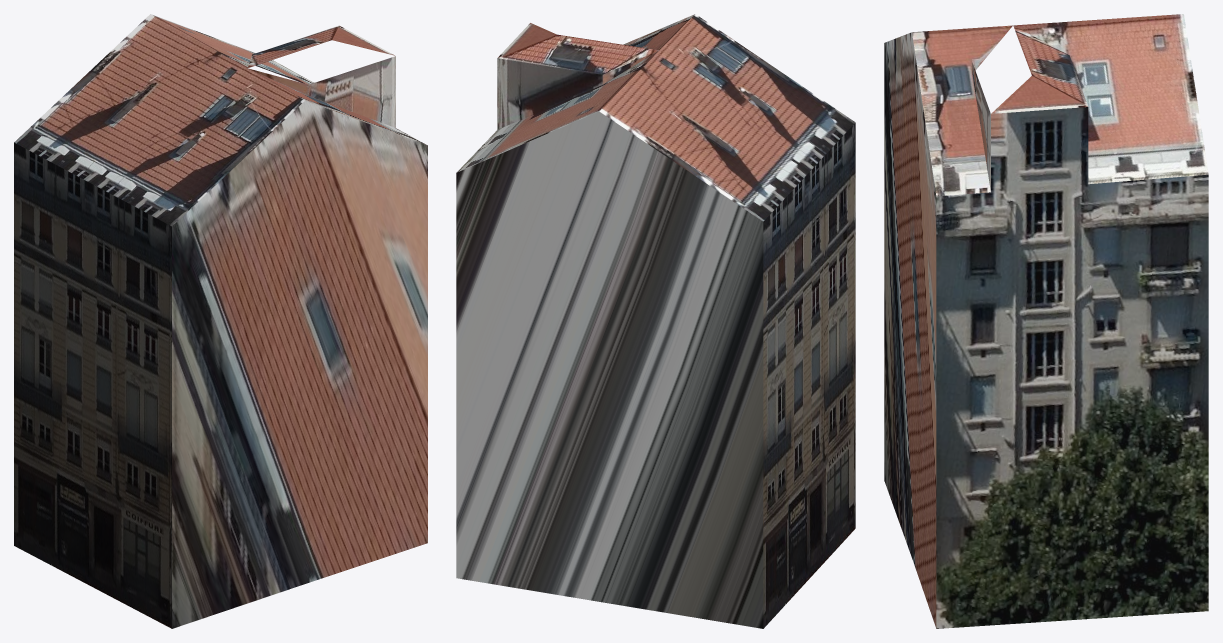
3 renders of one model, left to right at view 1: azimuth 30°, elevation 25°; view 2: azimuth 150°, elevation 25°; view 3: azimuth 270°, elevation 25°, orthographic. The views are drawn at different scales.
Visible parts, largest first — view 1: Z_UP; view 2: Z_UP; view 3: Z_UP.
Part boxes in pixels (box(x1,y1,x2,y2)): Z_UP: box(14, 14, 427, 628); Z_UP: box(456, 14, 855, 628); Z_UP: box(884, 14, 1208, 628).
Bounding box in the file's own units: 18.43 × 27.32 × 15.21.
2 materials, 1 textured.
